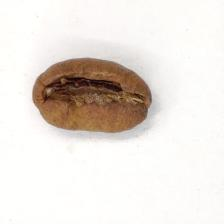NG: (34, 60, 151, 127)
